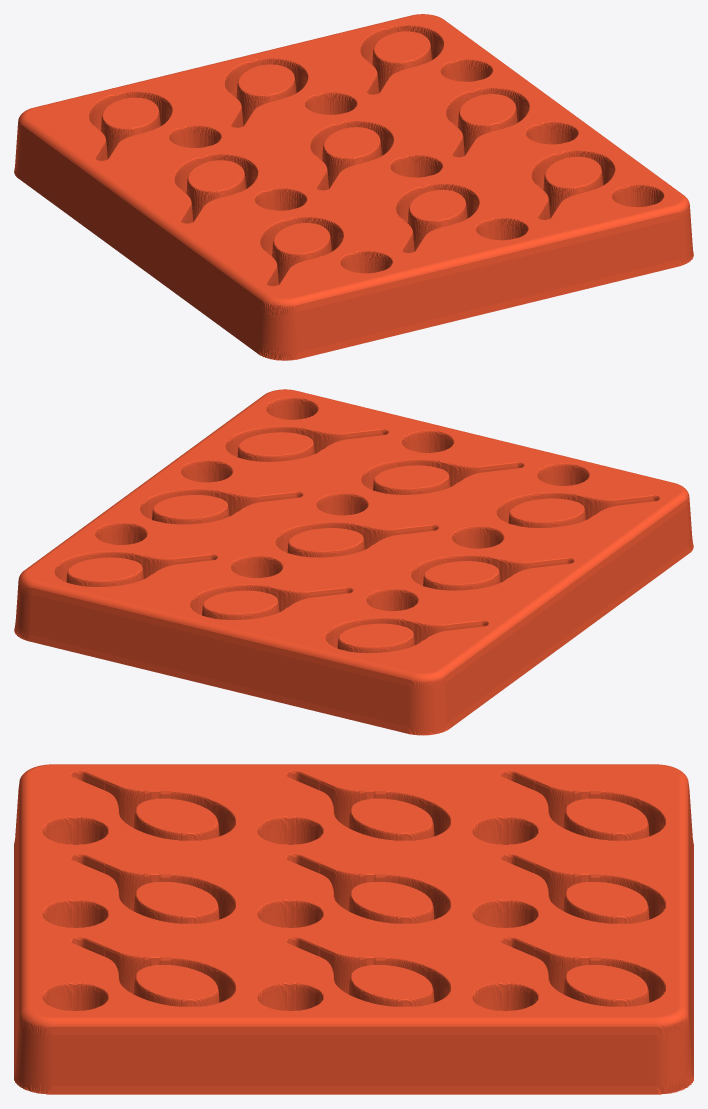
The model's file is mold.glb.
The picture shows the model from 3 angles, top to bottom: view 1: azimuth 30°, elevation 25°; view 2: azimuth 150°, elevation 25°; view 3: azimuth 270°, elevation 25°; orthographic projection. The views are drawn at different scales.
Visible parts, largest first — view 1: geometry_0; view 2: geometry_0; view 3: geometry_0.
Part boxes in pixels (bbox=[...]): geometry_0: bbox=[14, 14, 693, 360]; geometry_0: bbox=[14, 389, 693, 735]; geometry_0: bbox=[14, 764, 693, 1094].
Bounding box in the file's own units: 0.1467 × 0.0185 × 0.1595.
